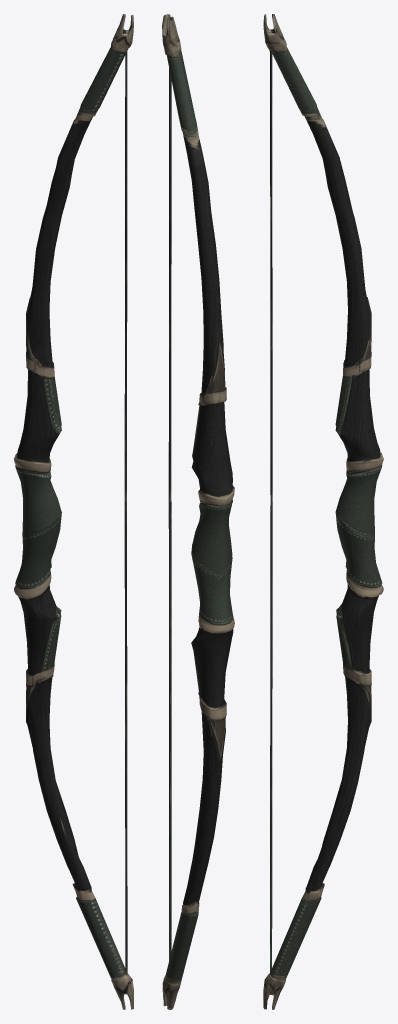
File: bow.glb
3 renders of one model, left to right at view 1: azimuth 90°, elevation 25°; view 2: azimuth 210°, elevation 25°; view 3: azimuth 270°, elevation 25°, orthographic.
Visible parts, largest first — view 1: t4-ranger-bow-body, bow-string-bottom, bow-string-top; view 2: t4-ranger-bow-body, bow-string-bottom, bow-string-top; view 3: t4-ranger-bow-body, bow-string-bottom, bow-string-top.
Boxes of the visible parts, x1=… form: t4-ranger-bow-body: x1=14, y1=14, x2=133, y2=1009; bow-string-bottom: x1=124, y1=501, x2=127, y2=975; bow-string-top: x1=124, y1=50, x2=127, y2=501; t4-ranger-bow-body: x1=162, y1=14, x2=234, y2=1009; bow-string-bottom: x1=168, y1=501, x2=171, y2=960; bow-string-top: x1=168, y1=68, x2=171, y2=502; t4-ranger-bow-body: x1=263, y1=14, x2=383, y2=1009; bow-string-bottom: x1=270, y1=501, x2=272, y2=972; bow-string-top: x1=270, y1=51, x2=272, y2=501.
Bounding box in the file's own units: 0.0722 × 1.85 × 0.2023.
1 material, 1 textured.
